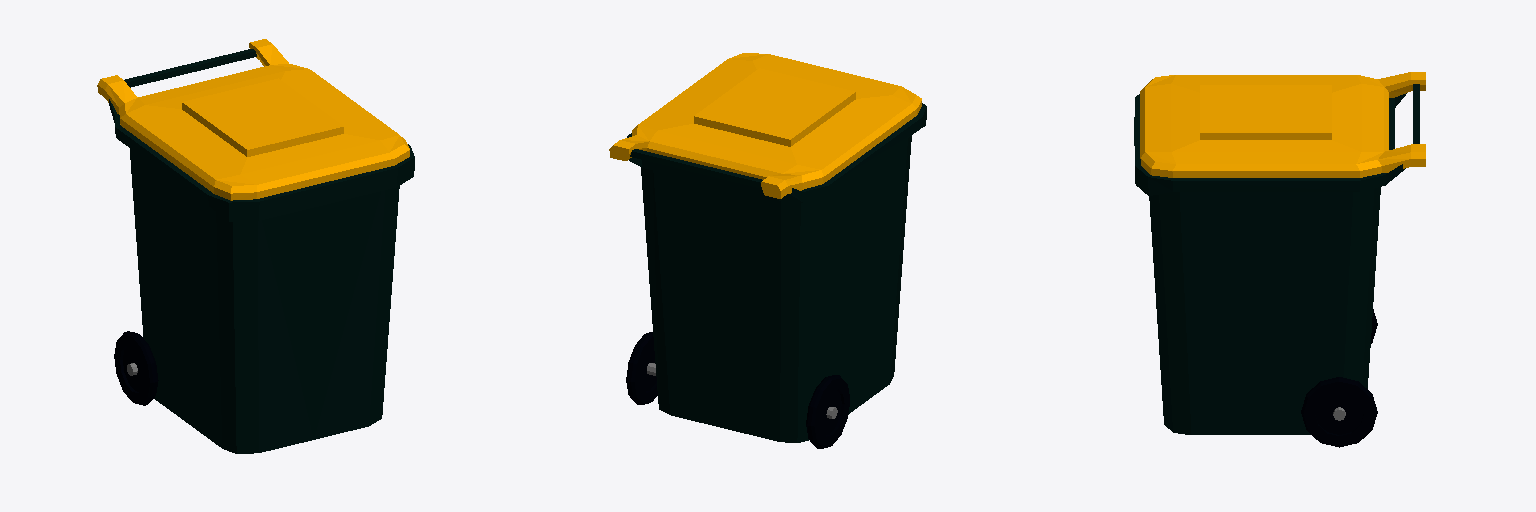
File: garbage.obj
3 views of the same model, side by side, from view 1: azimuth 30°, elevation 25°; view 2: azimuth 150°, elevation 25°; view 3: azimuth 270°, elevation 25° (orthographic).
Size of the model in its own units: 2.23 by 3.09 by 2.78.